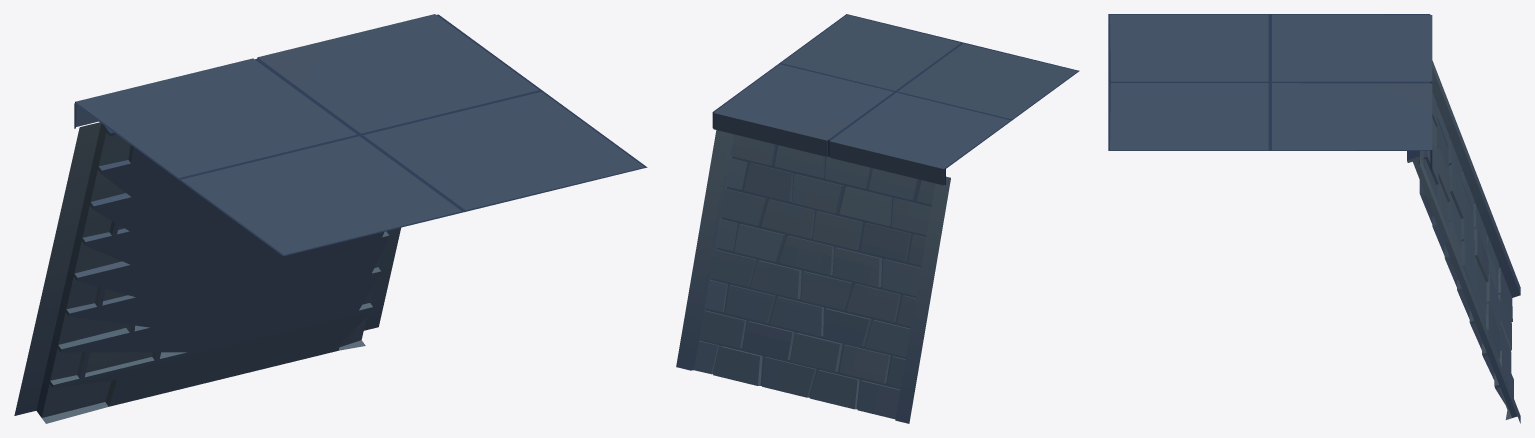
File: fbx-castle-tile-side-3.fbx
The picture shows the model from 3 angles, left to right: view 1: azimuth 30°, elevation 25°; view 2: azimuth 150°, elevation 25°; view 3: azimuth 270°, elevation 25°; orthographic projection. The views are drawn at different scales.
Visible parts, largest first — view 1: mesh-side-2; view 2: mesh-side-2; view 3: mesh-side-2.
Boxes of the visible parts, x1,y1,x2,y2 form: mesh-side-2: (14, 14, 647, 423); mesh-side-2: (676, 14, 1079, 423); mesh-side-2: (1108, 14, 1520, 423).
Bounding box in the file's own units: 401 × 379 × 509.
